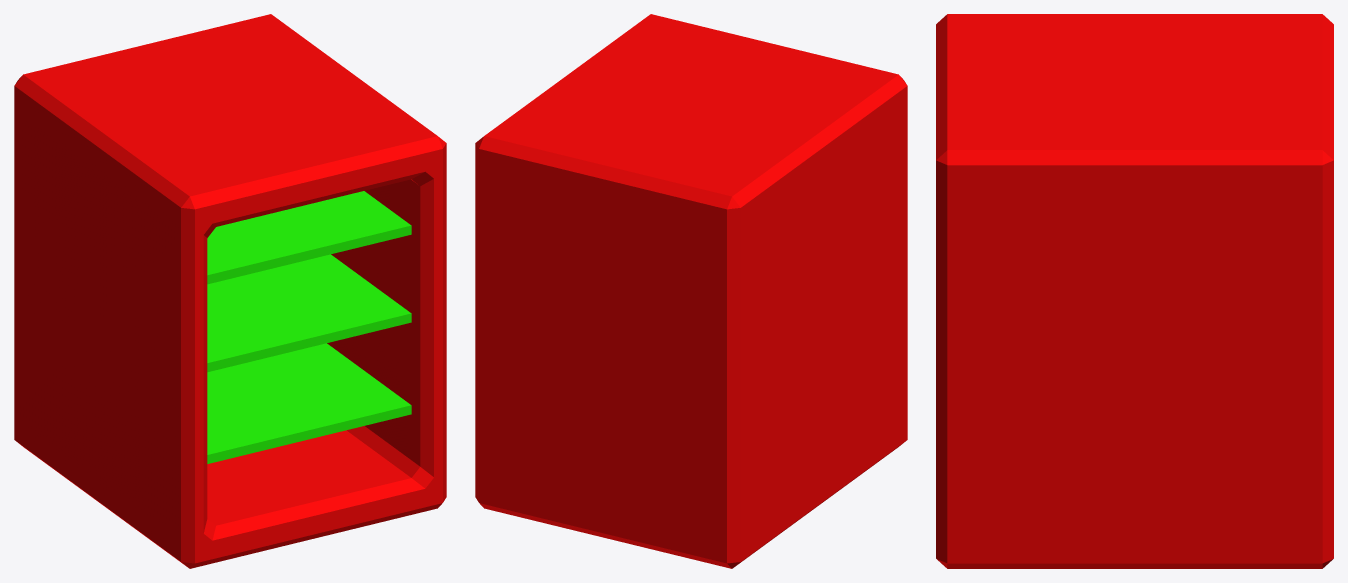
The model's file is umgebung_kuechenschrank_aufrecht_low.FBX.
The picture shows the model from 3 angles, left to right: view 1: azimuth 30°, elevation 25°; view 2: azimuth 150°, elevation 25°; view 3: azimuth 270°, elevation 25°; orthographic projection. The views are drawn at different scales.
Parts seen in each view (by area): view 1: o_kuechenschrank_aufrecht_low, i_brett_low (×2), o_brett_low; view 2: o_kuechenschrank_aufrecht_low; view 3: o_kuechenschrank_aufrecht_low.
Part boxes in pixels (left/top/right/bottom): o_kuechenschrank_aufrecht_low: left=14, top=14, right=446, bottom=568; i_brett_low (×2): left=207, top=191, right=411, bottom=372; o_brett_low: left=207, top=343, right=411, bottom=463; o_kuechenschrank_aufrecht_low: left=475, top=14, right=907, bottom=568; o_kuechenschrank_aufrecht_low: left=936, top=14, right=1333, bottom=568.
Bounding box in the file's own units: 91 × 105 × 122.
